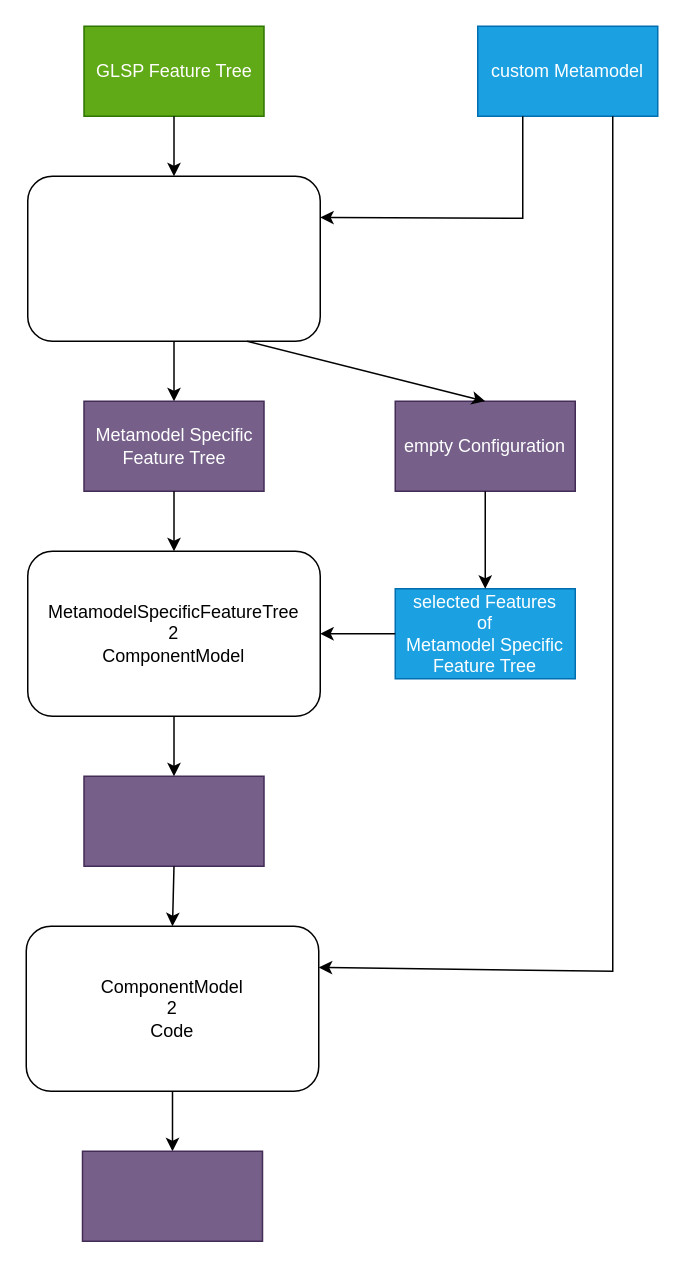
Some shapes in this 684 by 1268 pixel diagram are drawn without their labels. Each missing label, with the centre of its shape:
"GLSP Component Model" goes at (173,820).
"GLSPFeatureTree 2 MetamodelSpecificFeatureTree" goes at (173,258).
"Java Code" goes at (171,1195).
